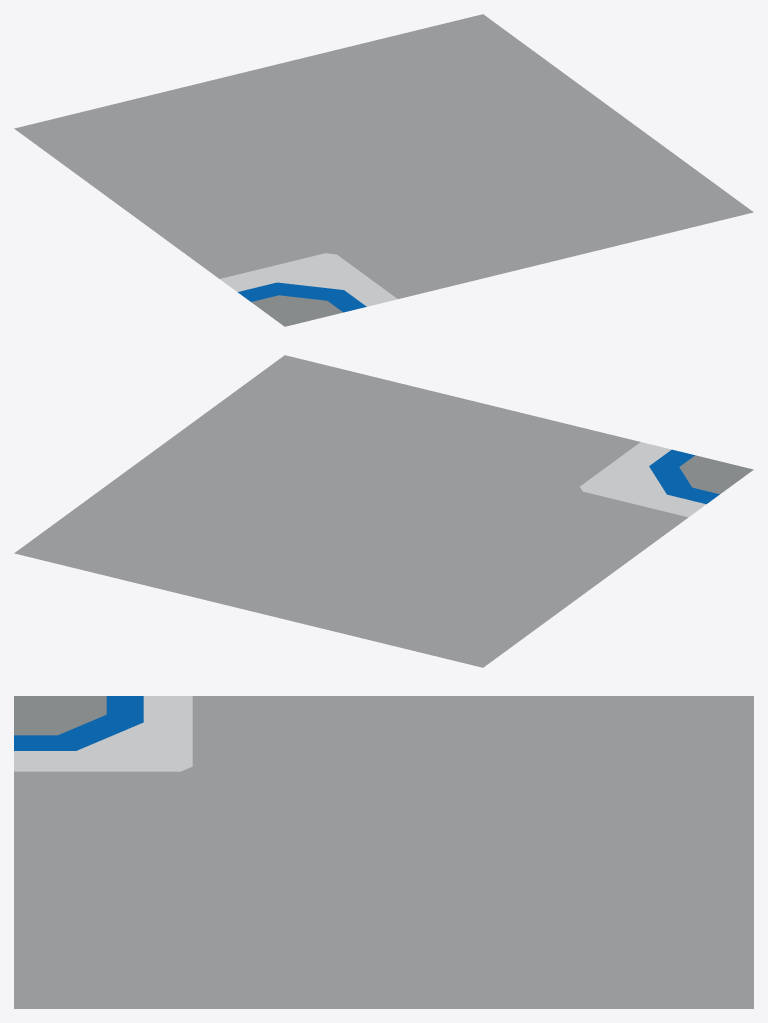
File: Ceiling_type_A_052.fbx
The picture shows the model from 3 angles, top to bottom: view 1: azimuth 30°, elevation 25°; view 2: azimuth 150°, elevation 25°; view 3: azimuth 270°, elevation 25°; orthographic projection. The views are drawn at different scales.
Visible parts, largest first — view 1: Ceiling_type_A_052; view 2: Ceiling_type_A_052; view 3: Ceiling_type_A_052.
Part boxes in pixels (x1,y1,x2,y2): Ceiling_type_A_052: (14, 14, 753, 326); Ceiling_type_A_052: (14, 355, 753, 667); Ceiling_type_A_052: (14, 696, 753, 1008).
Bounding box in the file's own units: 400 × 400 × 3.5.
